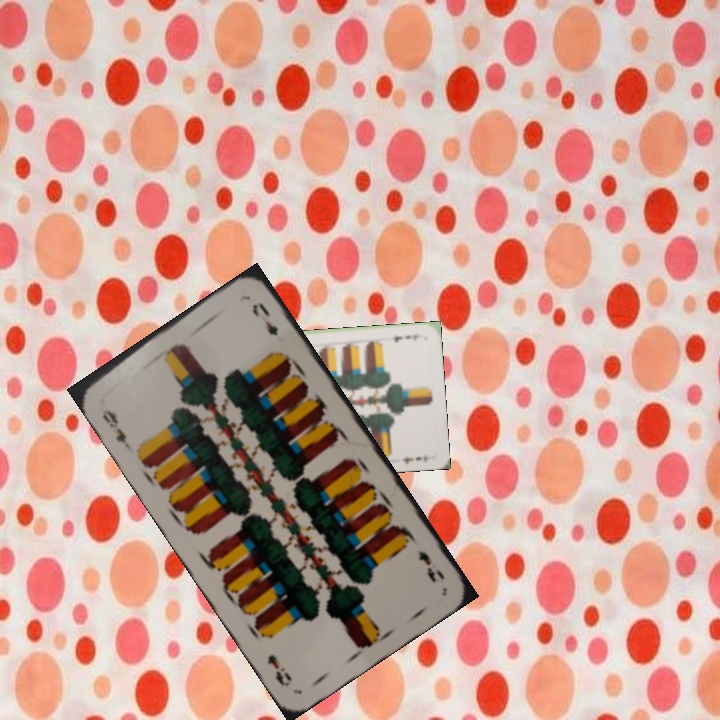E7: (389, 330, 425, 345)
E9: (98, 405, 132, 450), (413, 545, 448, 586)
